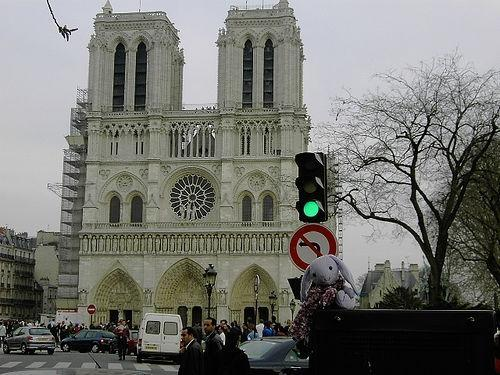car: (137, 314, 184, 364), (238, 335, 306, 368), (0, 324, 56, 354), (60, 329, 117, 354), (126, 330, 139, 356)
